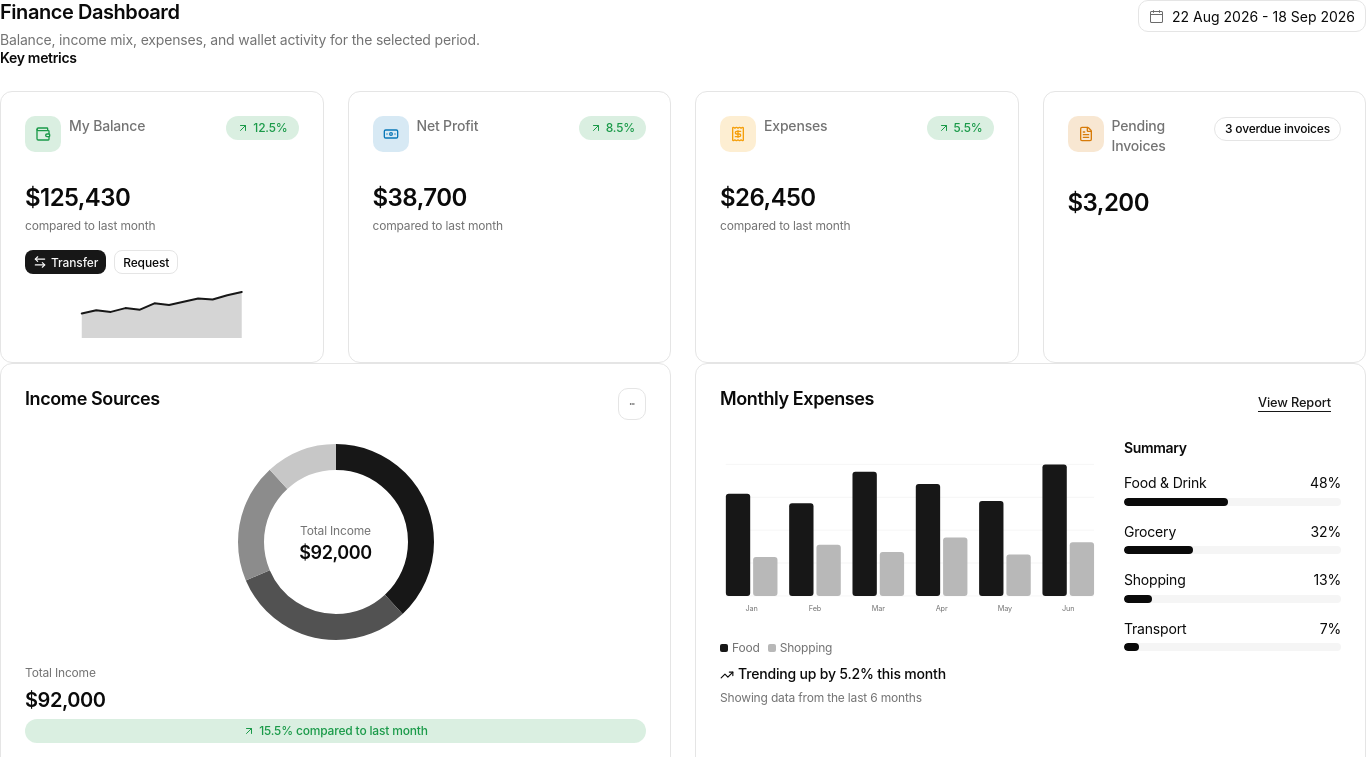
Test: FinancePage › opens the transfer dialog from the balance card
Click the button "Transfer" at coordinates (66, 262), box [25,250,106,274]
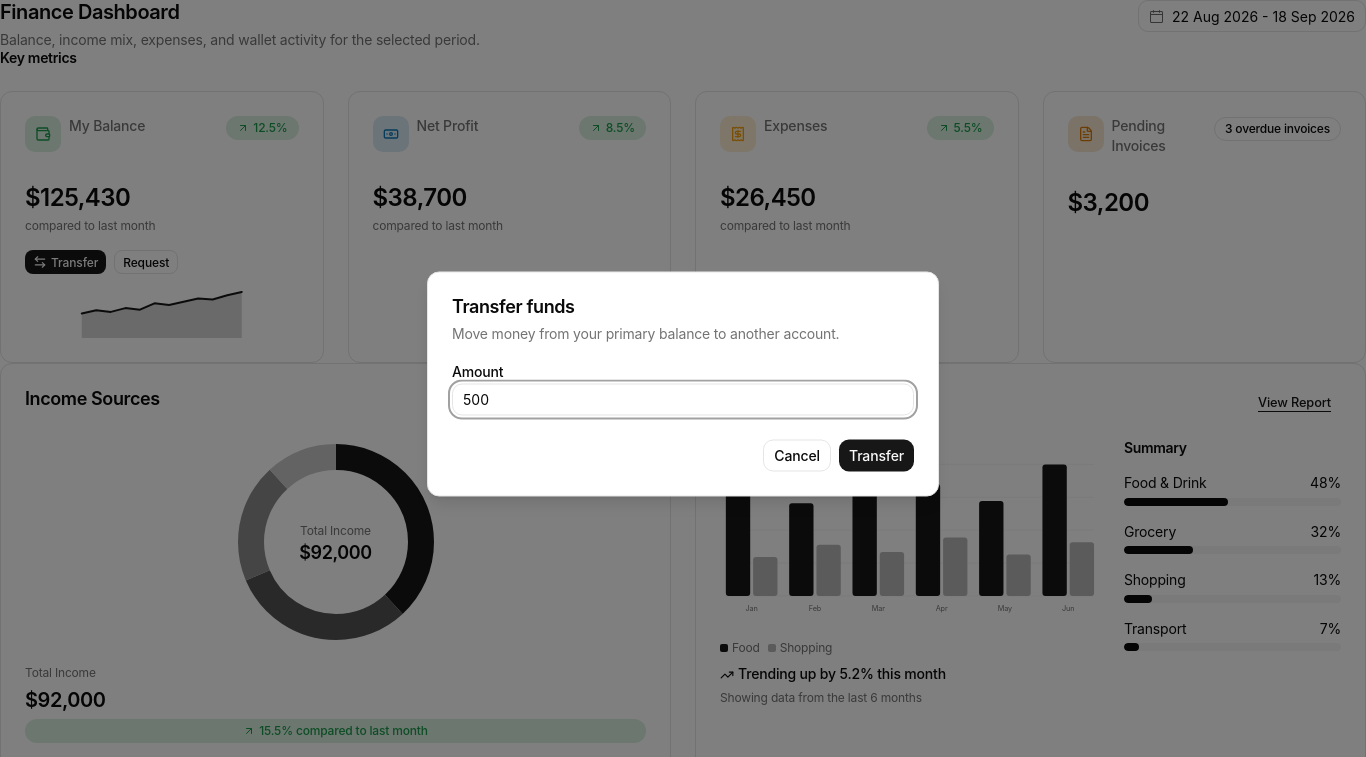
Result: the dialog "Transfer funds" is shown at [427,272,939,496]
Click the button "Transfer" at coordinates (876, 456), box [839,440,914,472]
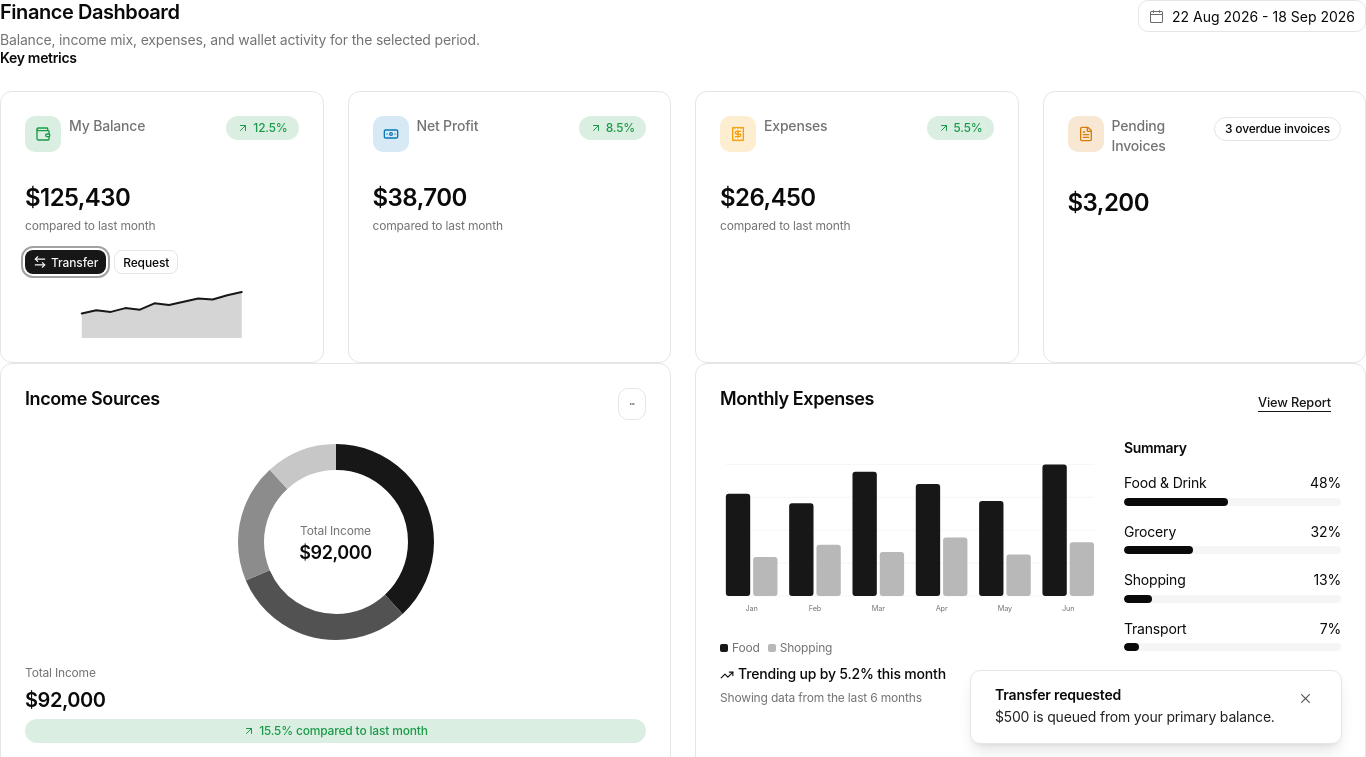
Result: the text "Transfer requested" is shown at [995,686,1121,703]
